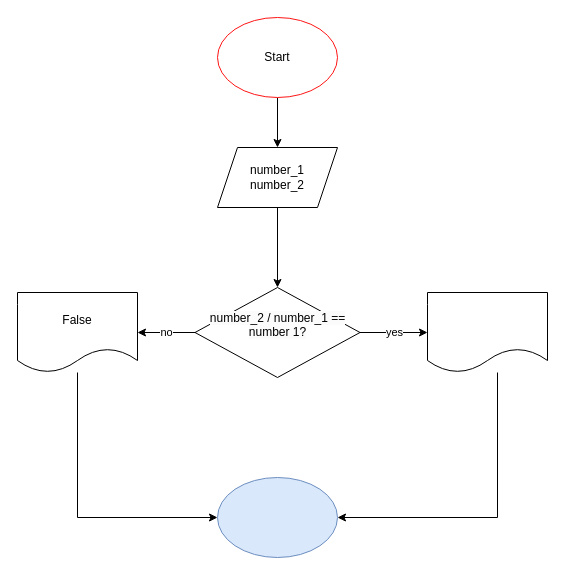
Some shapes in this 565 by 575 pixel diagram are drawn without their labels. Each missing label, with the centre of its shape:
"Finish" goes at point (277, 517).
"True" goes at point (487, 332).
